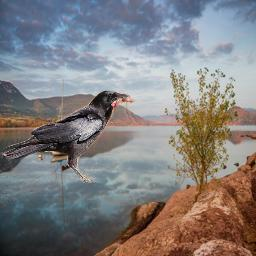Crow: (0, 87, 144, 183)
